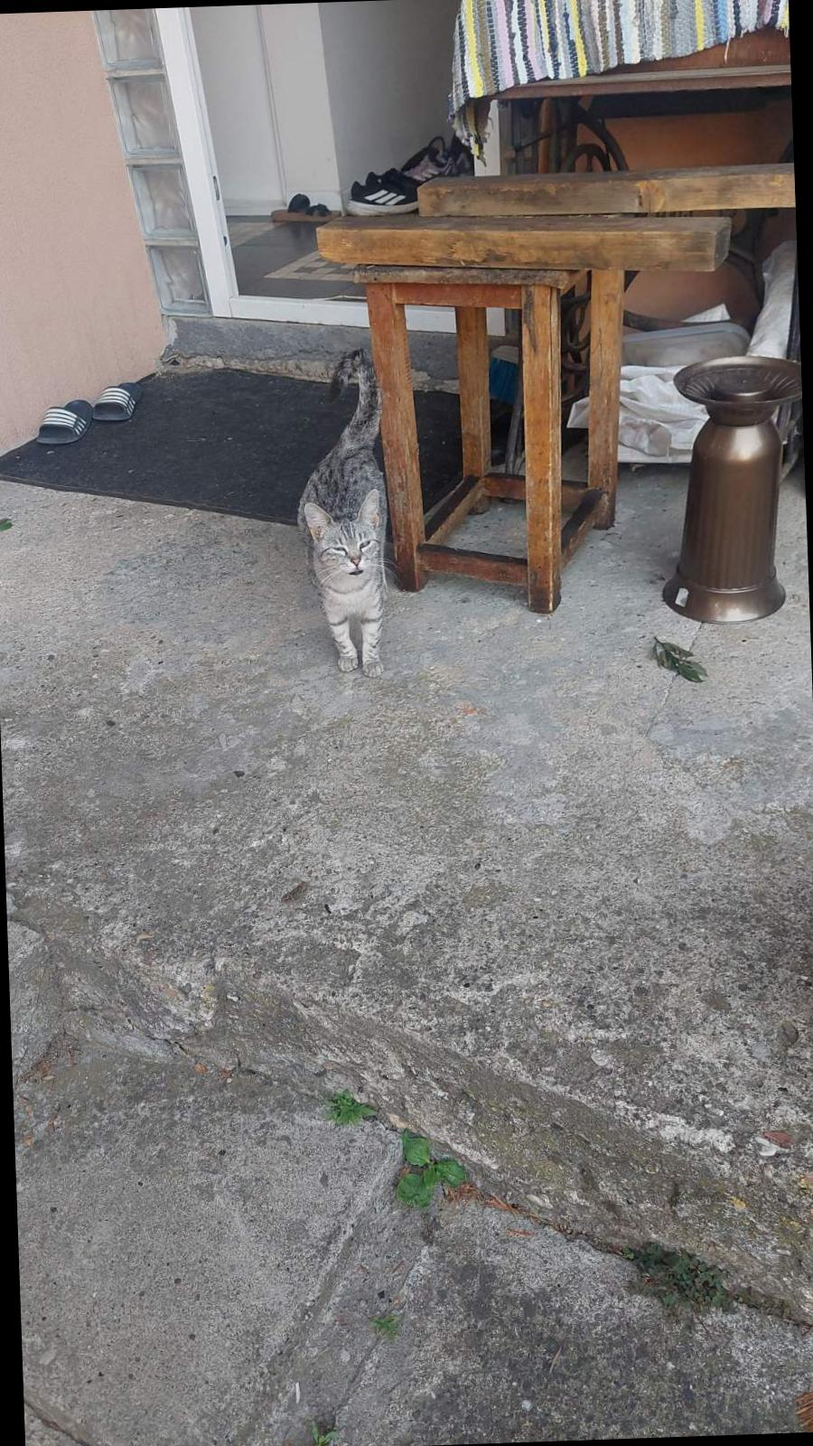macka: (291, 346, 394, 681)
